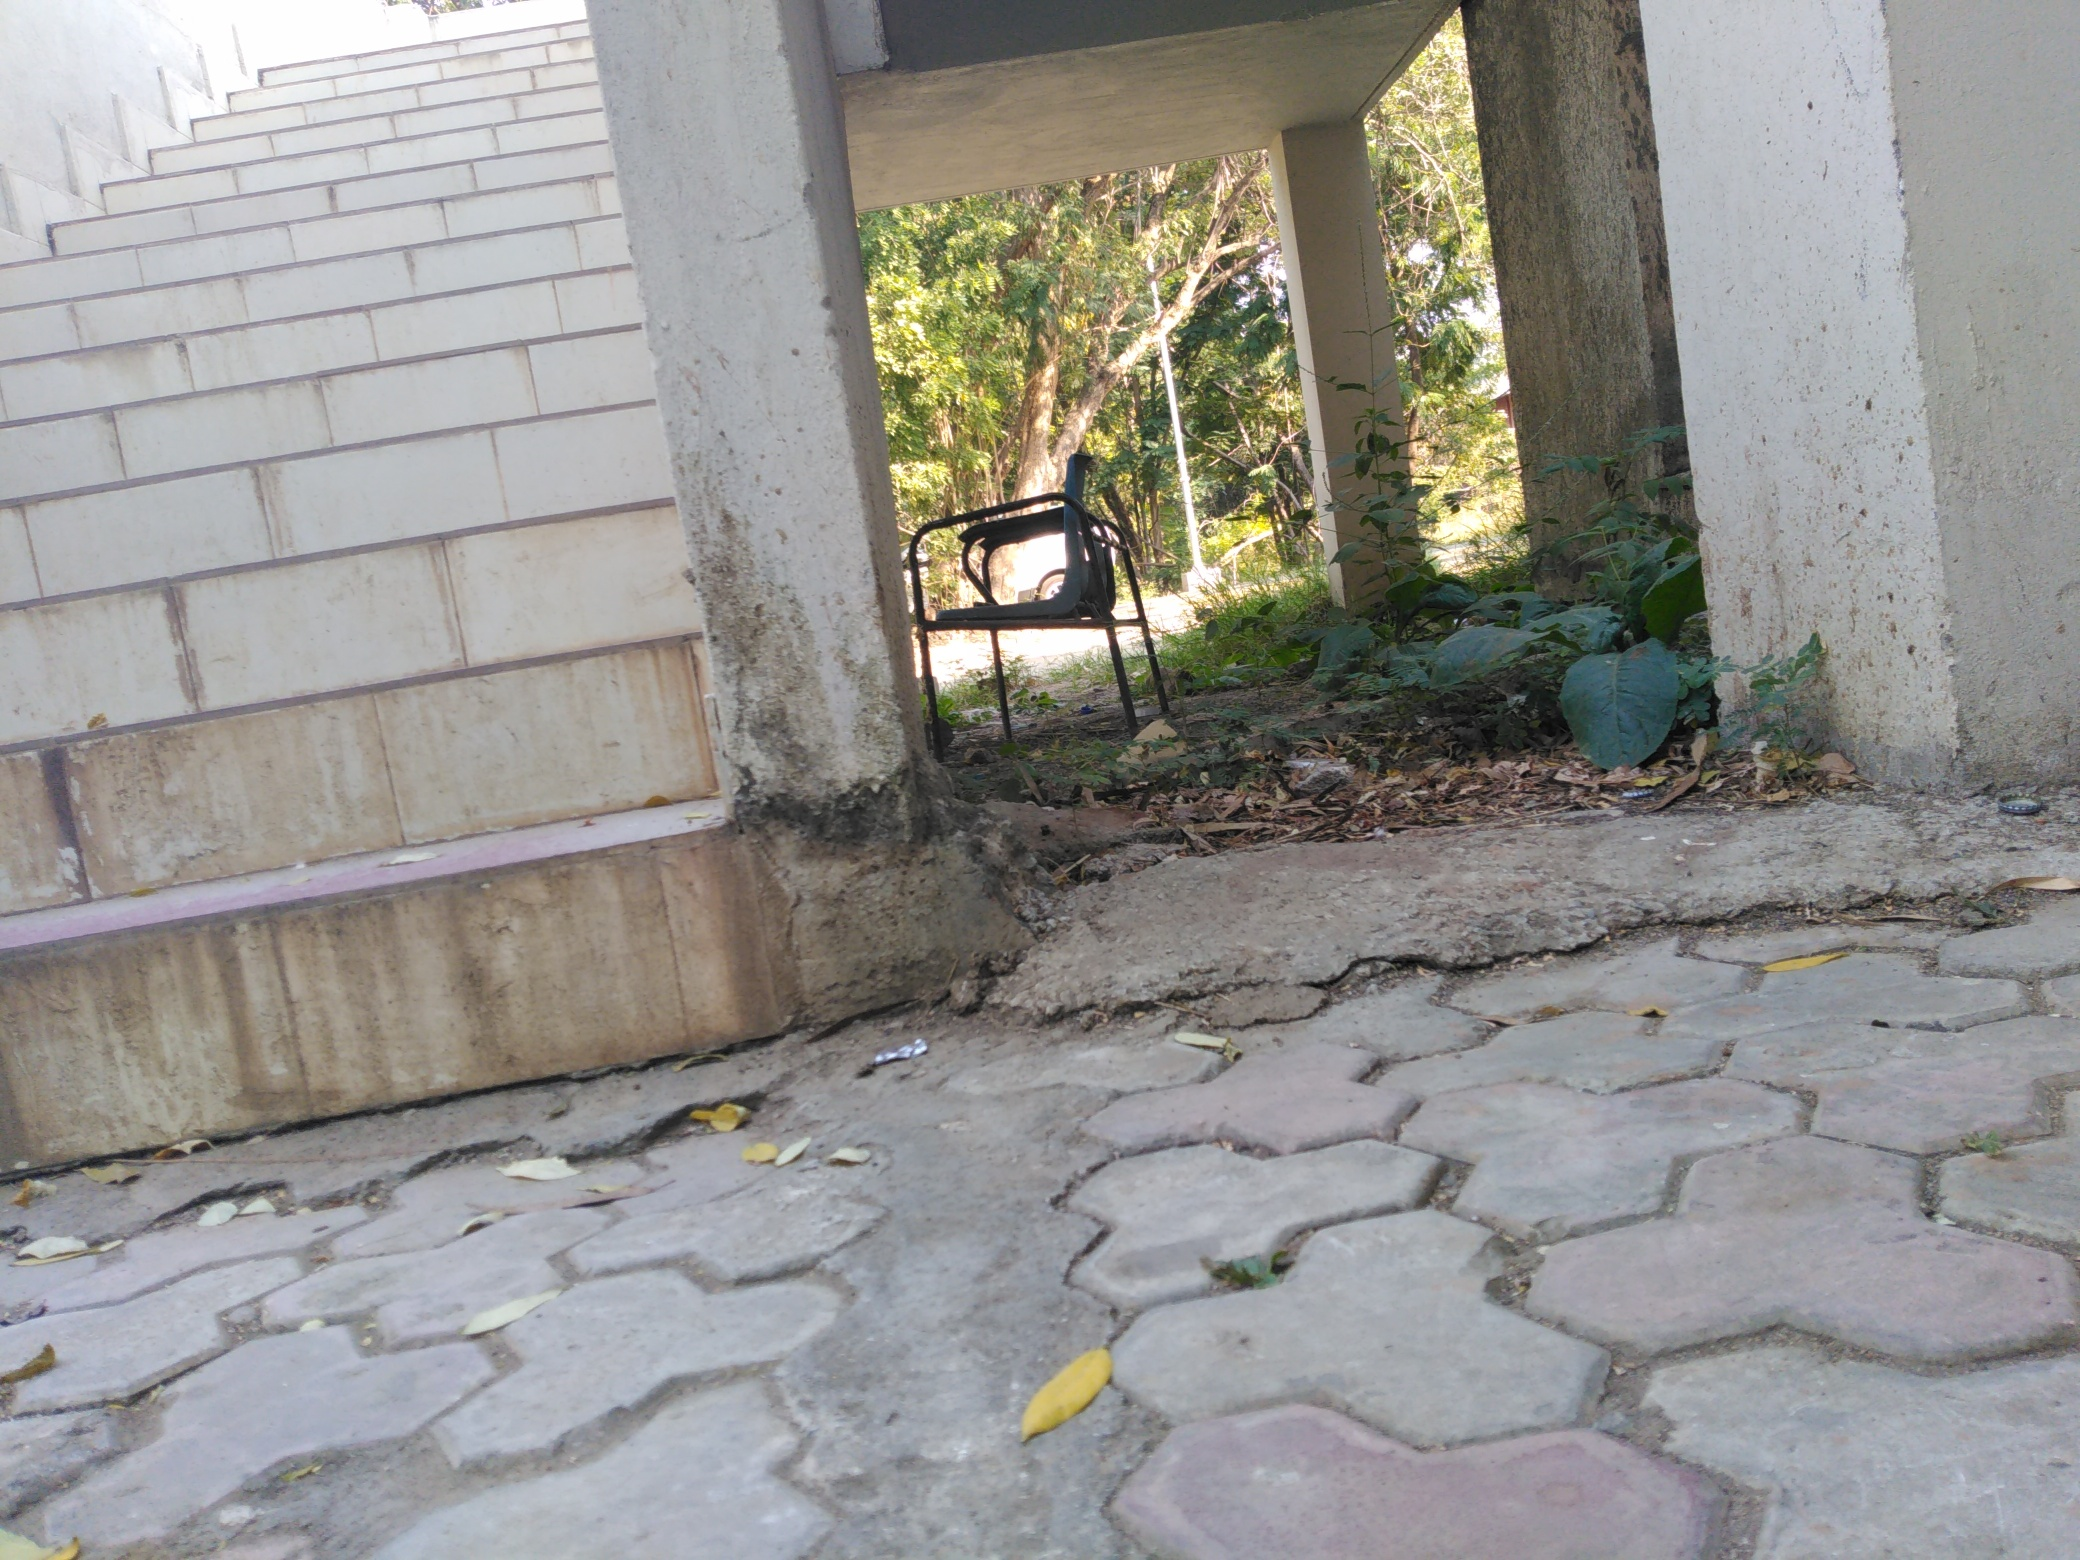stairs_up: (2, 7, 632, 1175)
